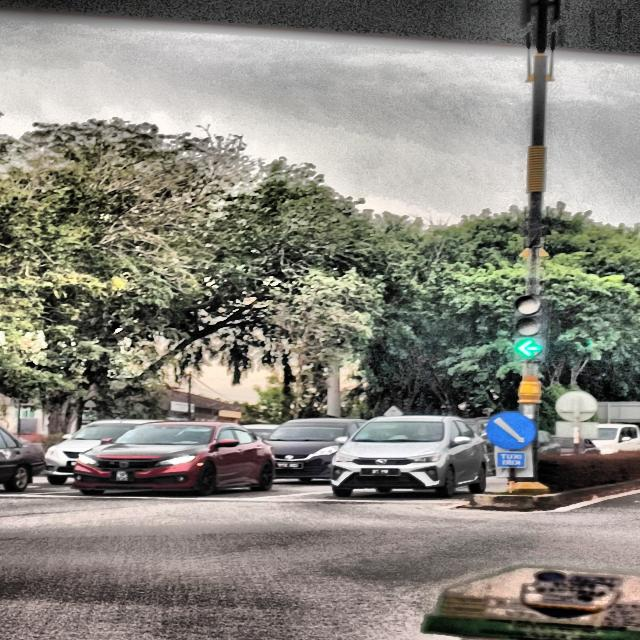green: (515, 295, 546, 362)
